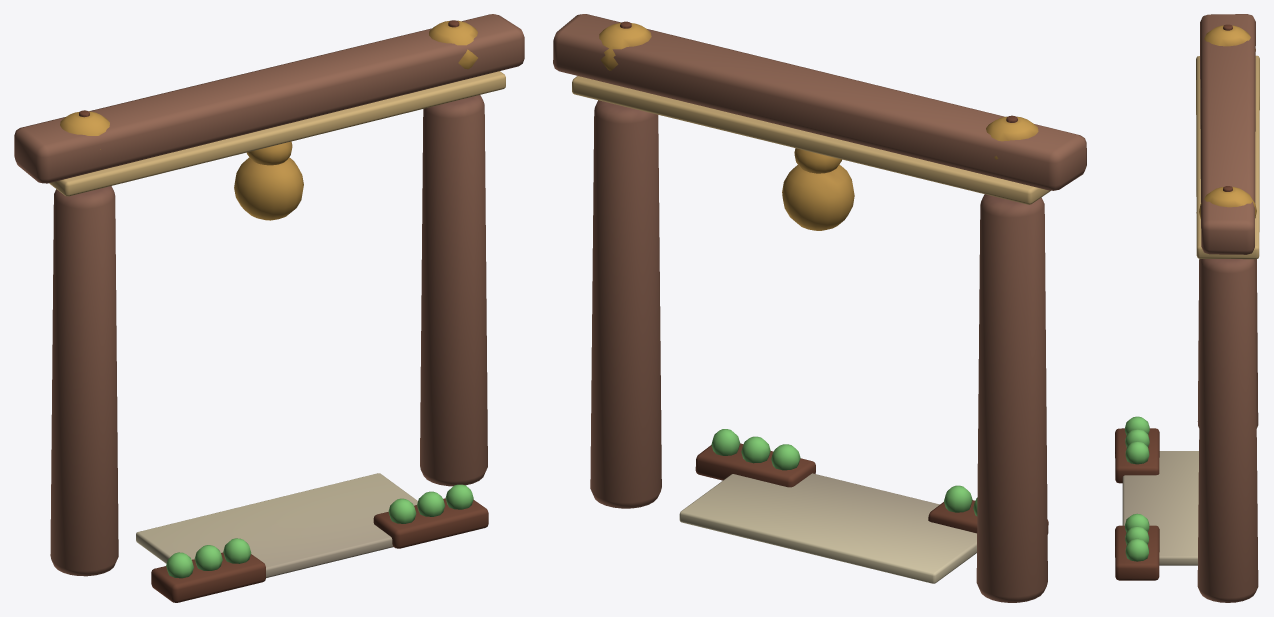
The picture shows the model from 3 angles, left to right: view 1: azimuth 30°, elevation 25°; view 2: azimuth 150°, elevation 25°; view 3: azimuth 270°, elevation 25°; orthographic projection. The views are drawn at different scales.
Parts seen in each view (by area): view 1: gate_8664f219; view 2: gate_8664f219; view 3: gate_8664f219.
Boxes of the visible parts, box(x1,y1,x2,y2) form: gate_8664f219: box(14, 14, 524, 602); gate_8664f219: box(553, 14, 1086, 602); gate_8664f219: box(1115, 14, 1259, 602).
Size of the model in its own units: 4.78 by 4.25 by 1.37.
